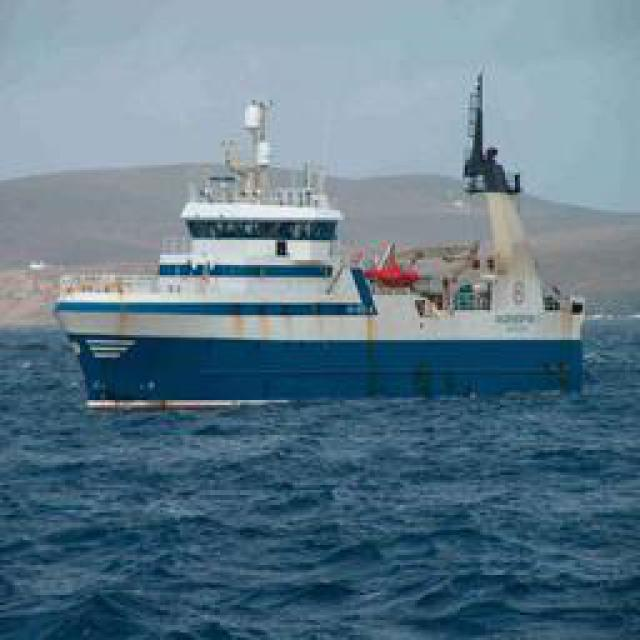Ship: (56, 93, 586, 408)
